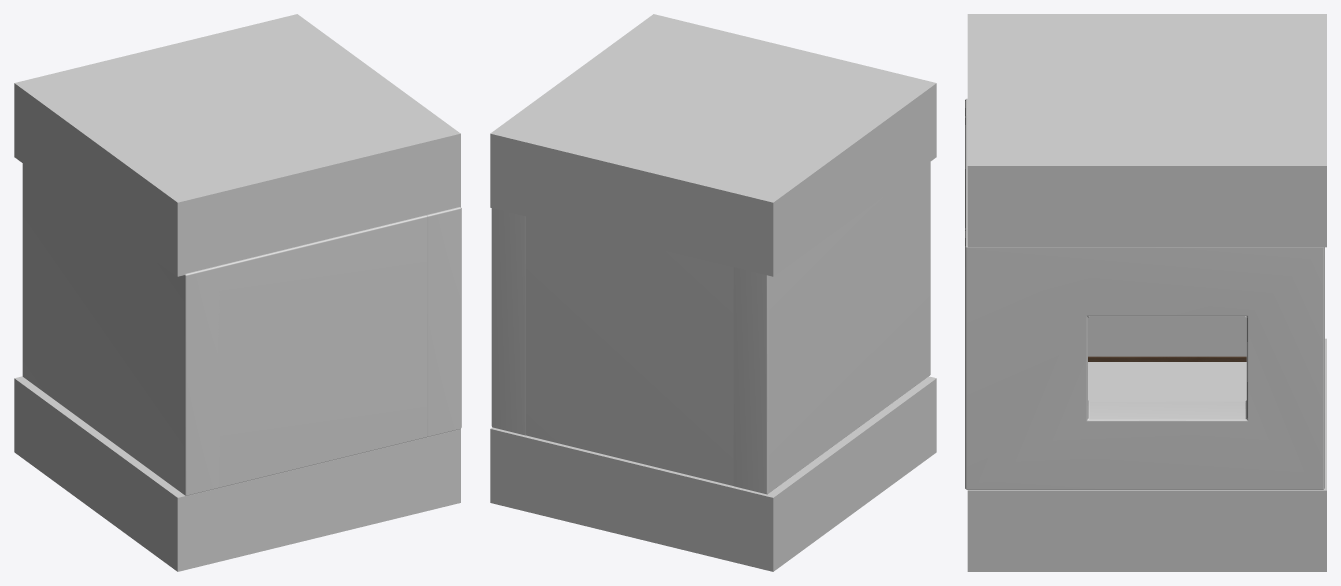
File: ikea_room.fbx
3 renders of one model, left to right at view 1: azimuth 30°, elevation 25°; view 2: azimuth 150°, elevation 25°; view 3: azimuth 270°, elevation 25°, orthographic. The views are drawn at different scales.
Parts seen in each view (by area): view 1: wall, floor.001, floor; view 2: wall, floor.001, floor; view 3: floor.001, wall, floor, wall_molding.
Part boxes in pixels (bbox=[...]): wall: bbox=[22, 163, 461, 495]; floor.001: bbox=[14, 14, 460, 276]; floor: bbox=[14, 376, 460, 571]; wall: bbox=[491, 162, 930, 494]; floor.001: bbox=[490, 14, 936, 276]; floor: bbox=[490, 376, 936, 571]; floor.001: bbox=[967, 14, 1326, 247]; wall: bbox=[965, 98, 1324, 489]; floor: bbox=[967, 338, 1326, 571]; wall_molding: bbox=[1088, 356, 1246, 361].
Size of the model in its own units: 401 by 499 by 403.
